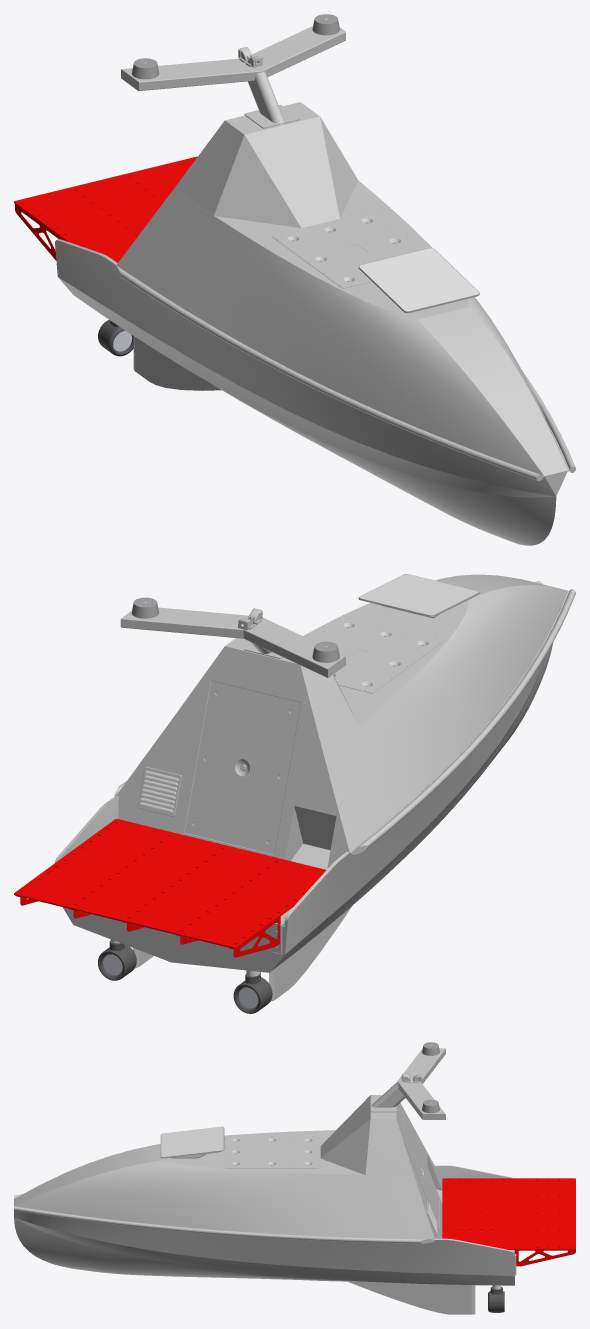
The model's file is lm450-101-hull-sw-surface_v17.glb.
3 renders of one model, top to bottom at view 1: azimuth 30°, elevation 25°; view 2: azimuth 150°, elevation 25°; view 3: azimuth 270°, elevation 25°, orthographic. The views are drawn at different scales.
Visible parts, largest first — view 1: eBom-FreeParts.step-1, LM450-REARDECK-3DP.step-1, LM450-accv2-3DP.step-1, ENDURE-2430.step-1, LM450-SL-3DP.step-1, P-087-030-rev-E-133_1.step-1; view 2: eBom-FreeParts.step-1, LM450-REARDECK-3DP.step-1, AGILE-2436.step-1, LM450-accv2-3DP.step-1, ENDURE-2430.step-1, LM450-SL-3DP.step-1, GTS-20W-ST-0.step-1, P-087-030-rev-E-133_1.step-1, P-087-030-rev-E-133.step-1; view 3: eBom-FreeParts.step-1, LM450-REARDECK-3DP.step-1, ENDURE-2430.step-1, LM450-accv2-3DP.step-1, LM450-SL-3DP.step-1, AGILE-2436.step-1, P-087-030-rev-E-133.step-1.
Boxes of the visible parts, x1,y1,x2,y2 form: eBom-FreeParts.step-1: [55, 102, 575, 545]; LM450-REARDECK-3DP.step-1: [14, 156, 197, 262]; LM450-accv2-3DP.step-1: [121, 14, 345, 128]; ENDURE-2430.step-1: [272, 211, 423, 288]; LM450-SL-3DP.step-1: [358, 248, 479, 312]; P-087-030-rev-E-133_1.step-1: [98, 320, 133, 356]; eBom-FreeParts.step-1: [55, 574, 575, 1001]; LM450-REARDECK-3DP.step-1: [14, 818, 326, 957]; AGILE-2436.step-1: [178, 673, 307, 858]; LM450-accv2-3DP.step-1: [120, 597, 345, 677]; ENDURE-2430.step-1: [311, 616, 443, 693]; LM450-SL-3DP.step-1: [358, 574, 479, 618]; GTS-20W-ST-0.step-1: [137, 766, 181, 816]; P-087-030-rev-E-133_1.step-1: [233, 970, 272, 1013]; P-087-030-rev-E-133.step-1: [98, 939, 136, 980]; eBom-FreeParts.step-1: [14, 1095, 516, 1314]; LM450-REARDECK-3DP.step-1: [442, 1178, 575, 1266]; ENDURE-2430.step-1: [225, 1136, 318, 1168]; LM450-accv2-3DP.step-1: [370, 1042, 445, 1119]; LM450-SL-3DP.step-1: [160, 1126, 224, 1158]; AGILE-2436.step-1: [403, 1108, 440, 1233]; P-087-030-rev-E-133.step-1: [488, 1285, 504, 1312].
Size of the model in its own units: 0.0834 by 0.1083 by 0.2525.
